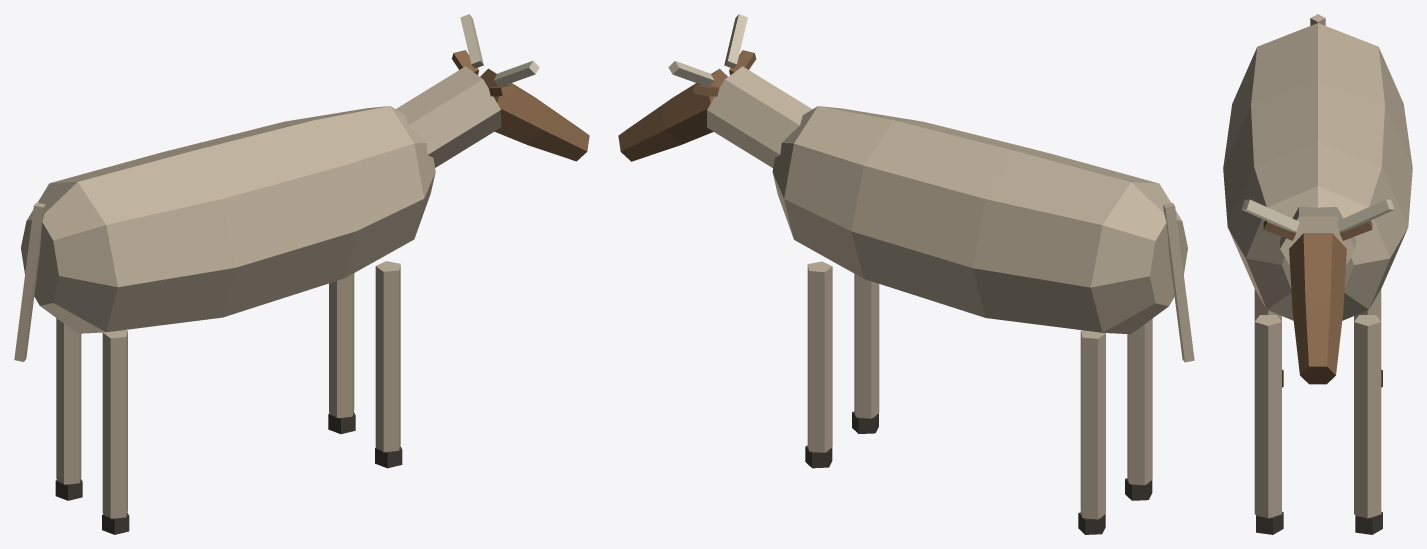
Rendered from cow.glb.
The picture shows the model from 3 angles, left to right: view 1: azimuth 30°, elevation 25°; view 2: azimuth 150°, elevation 25°; view 3: azimuth 270°, elevation 25°; orthographic projection. The views are drawn at different scales.
Parts seen in each view (by area): view 1: cow; view 2: cow; view 3: cow.
Part boxes in pixels (x1,y1,x2,y2): cow: (14, 14, 589, 534); cow: (618, 14, 1194, 534); cow: (1223, 14, 1412, 534).
Size of the model in its own units: 2.34 by 1.47 by 0.63.
